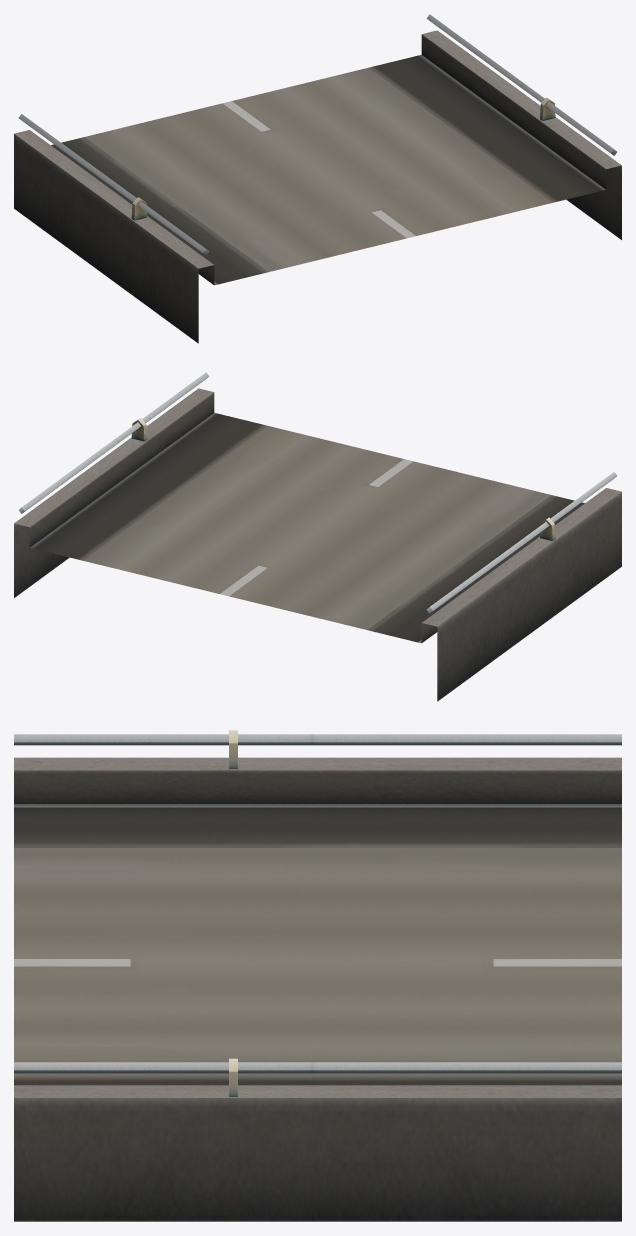
Rendered from Qiao.FBX.
3 views of the same model, one above another, from view 1: azimuth 30°, elevation 25°; view 2: azimuth 150°, elevation 25°; view 3: azimuth 270°, elevation 25° (orthographic). The views are drawn at different scales.
Parts seen in each view (by area): view 1: Object001; view 2: Object001; view 3: Object001.
Boxes of the visible parts, left/top/right/bottom form: Object001: left=14, top=14, right=621, bottom=343; Object001: left=14, top=372, right=621, bottom=701; Object001: left=14, top=730, right=621, bottom=1221.
Bounding box in the file's own units: 425 × 91.36 × 321.
Materials: 1 (1 with a texture image).
